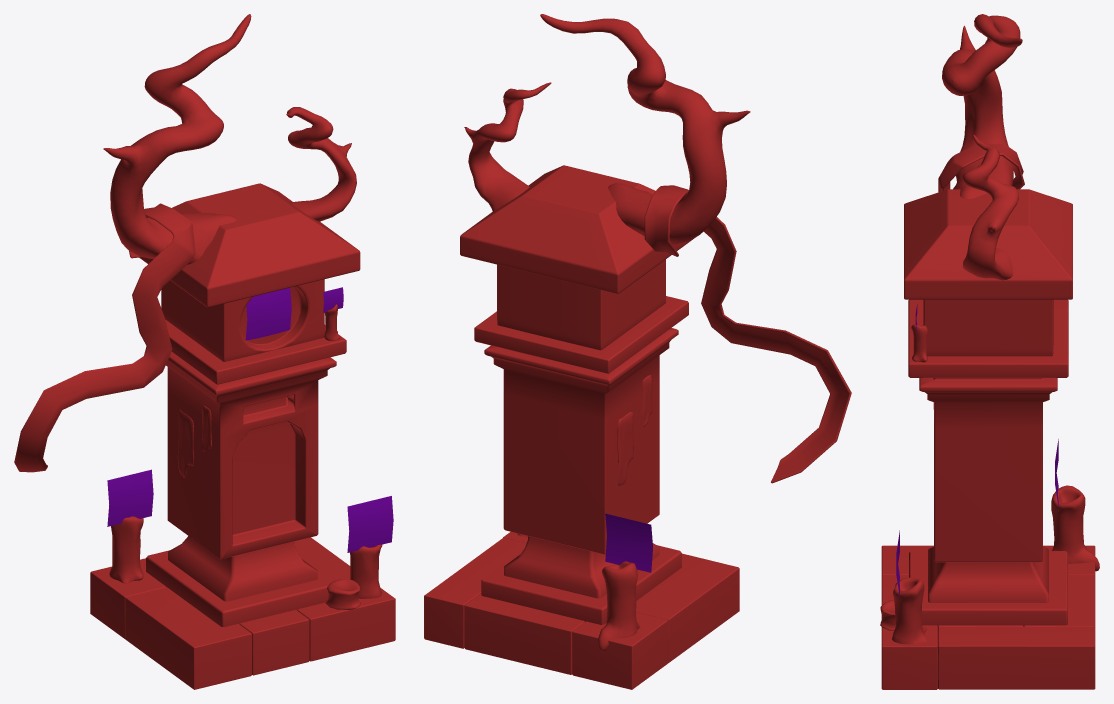
The model's file is altar.fbx.
3 renders of one model, left to right at view 1: azimuth 30°, elevation 25°; view 2: azimuth 150°, elevation 25°; view 3: azimuth 270°, elevation 25°, orthographic. The views are drawn at different scales.
Visible parts, largest first — view 1: polySurface11, polySurface1; view 2: polySurface11, polySurface1; view 3: polySurface11, polySurface1.
Boxes of the visible parts, x1,y1,x2,y2 form: polySurface11: (14, 14, 395, 689); polySurface1: (107, 287, 393, 552); polySurface11: (424, 14, 851, 689); polySurface1: (605, 513, 652, 572); polySurface11: (880, 14, 1099, 689); polySurface1: (896, 304, 1058, 597).
Size of the model in its own units: 21.68 by 35.04 by 11.41.
